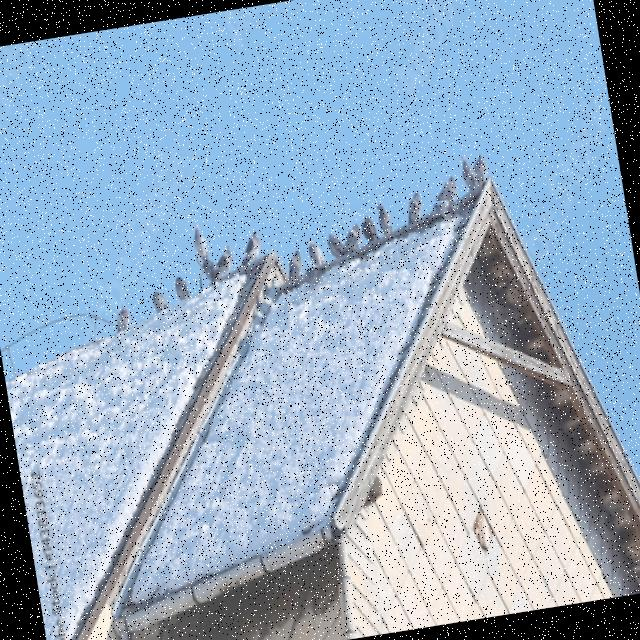bird: (326, 222, 366, 264), (236, 230, 264, 268), (200, 253, 228, 287), (432, 176, 459, 207), (190, 223, 210, 263), (212, 245, 236, 278), (306, 237, 328, 270), (403, 190, 424, 224), (284, 249, 305, 283), (196, 252, 218, 284), (375, 201, 394, 237), (460, 155, 478, 192), (471, 153, 490, 187), (112, 302, 132, 334), (360, 213, 380, 244), (436, 198, 461, 222), (150, 288, 170, 314), (173, 274, 191, 302)
